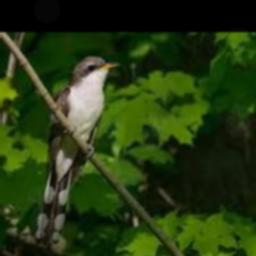Cuckoo: (33, 55, 118, 244)
